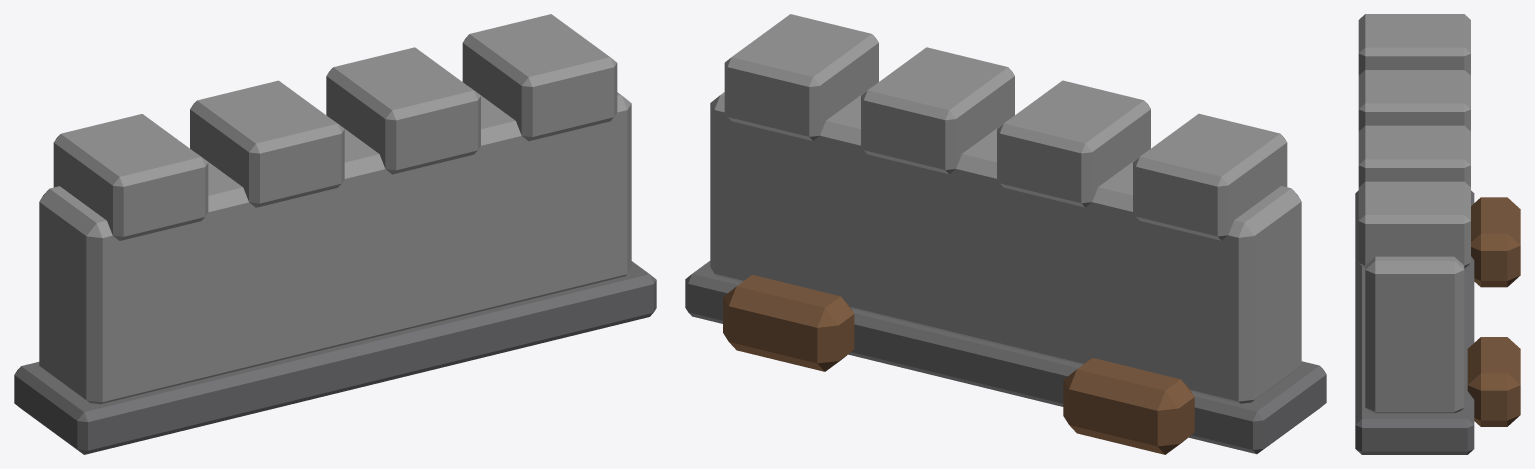
File: wall.glb
3 renders of one model, left to right at view 1: azimuth 30°, elevation 25°; view 2: azimuth 150°, elevation 25°; view 3: azimuth 270°, elevation 25°, orthographic. The views are drawn at different scales.
Visible parts, largest first — view 1: wall; view 2: wall; view 3: wall.
Part boxes in pixels (bbox=[...]): wall: bbox=[14, 14, 656, 454]; wall: bbox=[685, 14, 1326, 454]; wall: bbox=[1355, 14, 1520, 454].
Bounding box in the file's own units: 1.7 × 0.75 × 0.5.
1 material, 1 textured.
